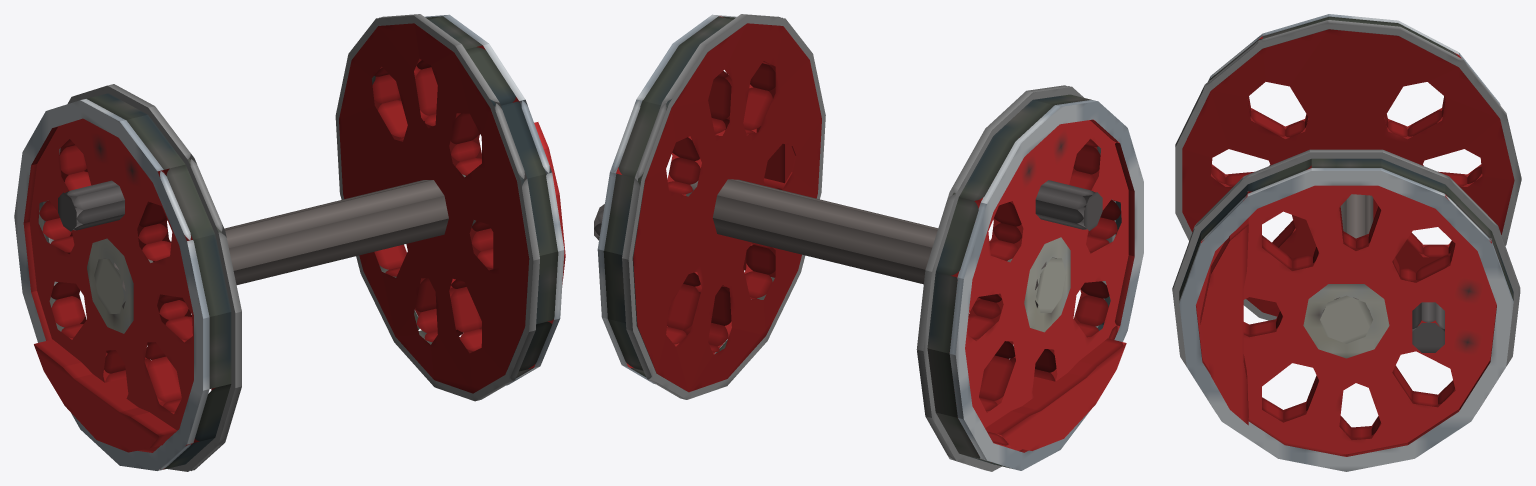
The model's file is drive_wheel_2_4.obj.
3 views of the same model, side by side, from view 1: azimuth 30°, elevation 25°; view 2: azimuth 150°, elevation 25°; view 3: azimuth 270°, elevation 25° (orthographic). The views are drawn at different scales.
Visible parts, largest first — view 1: circle; view 2: circle; view 3: circle.
Boxes of the visible parts, x1=… form: circle: x1=14, y1=14, x2=565, y2=471; circle: x1=594, y1=14, x2=1143, y2=471; circle: x1=1172, y1=14, x2=1521, y2=471.
Bounding box in the file's own units: 2.06 × 1.59 × 1.59.
